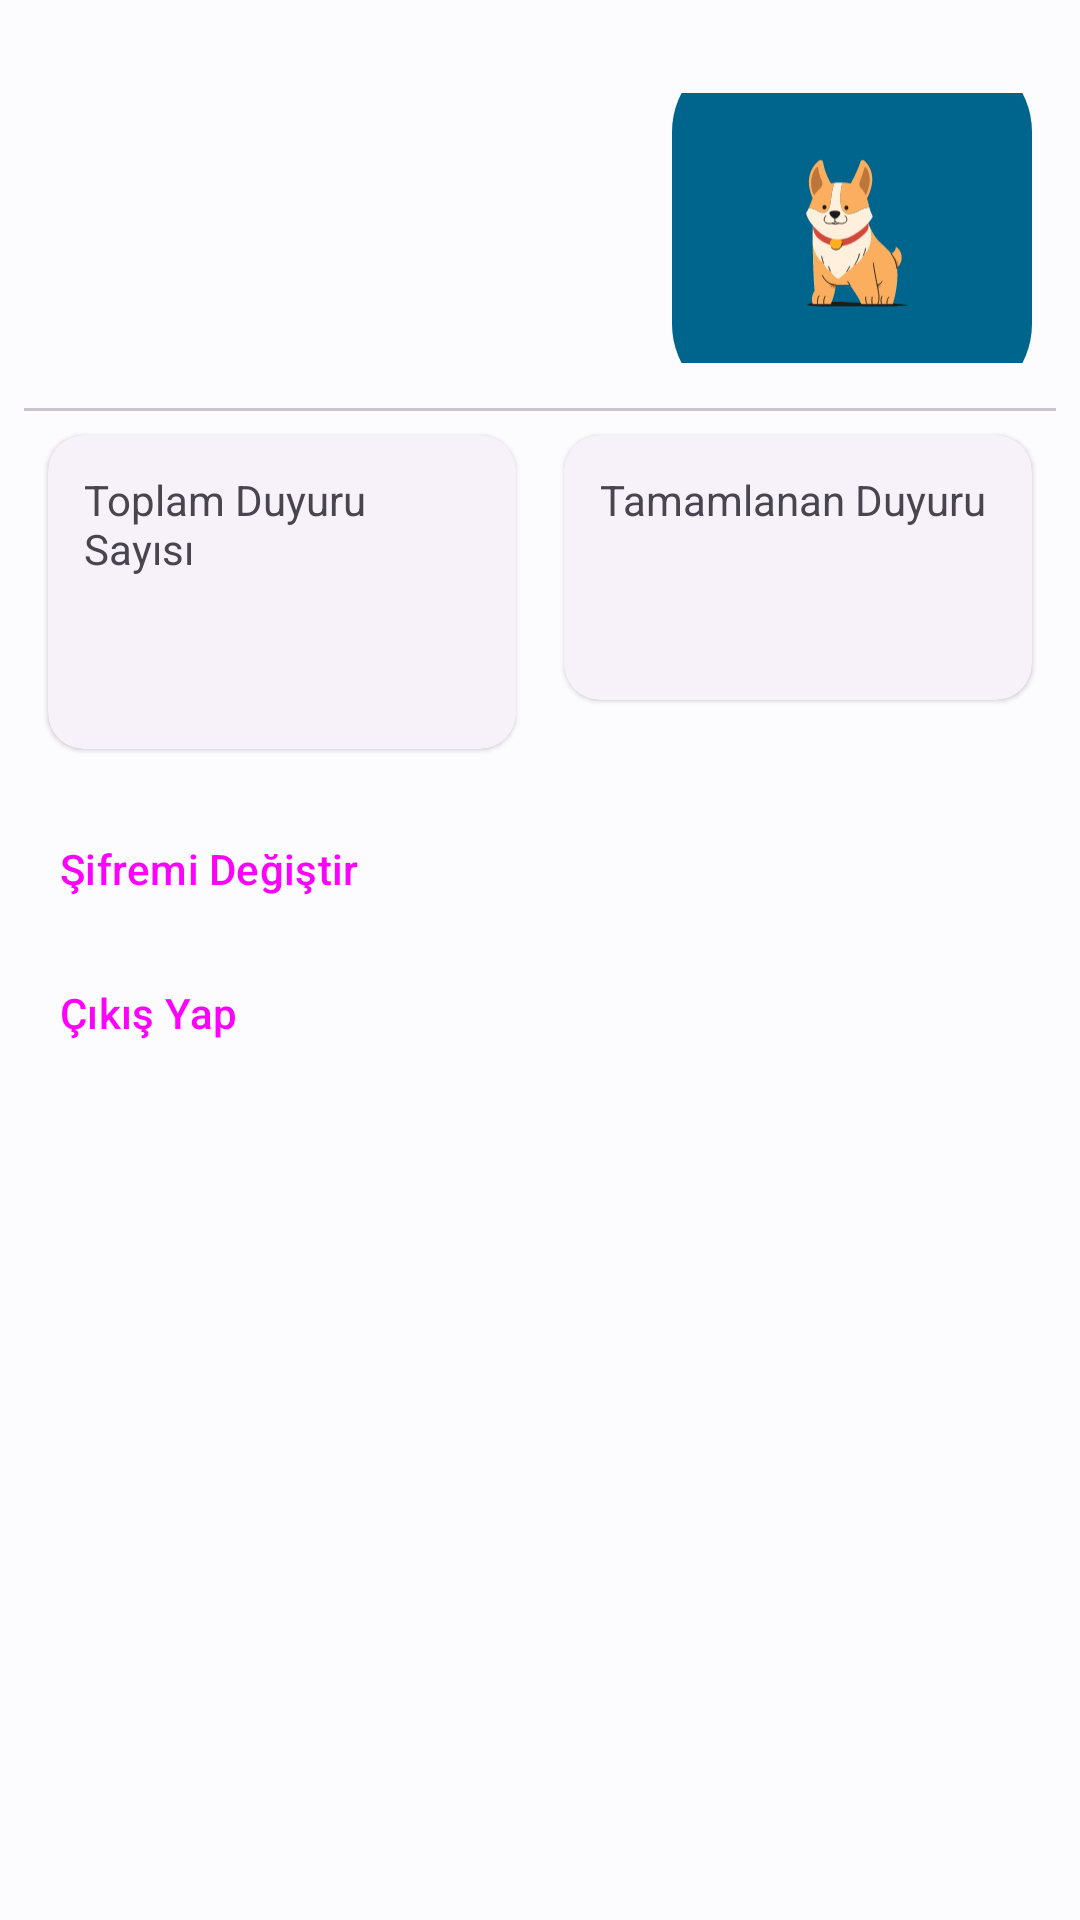

Locate icon controls on the screen. Image size 1080 x 1920, boxes as (x1, y1, x2, y2).
dog: (672, 93, 1032, 363)
